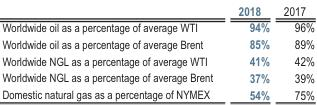table: (1, 0, 314, 102)
table column: (1, 0, 224, 102), (224, 0, 275, 102), (275, 0, 314, 102)
table column header: (1, 0, 314, 18)
table row: (1, 0, 314, 18), (1, 34, 314, 51), (1, 51, 314, 68), (1, 68, 314, 85), (1, 85, 314, 102), (1, 18, 314, 34)
